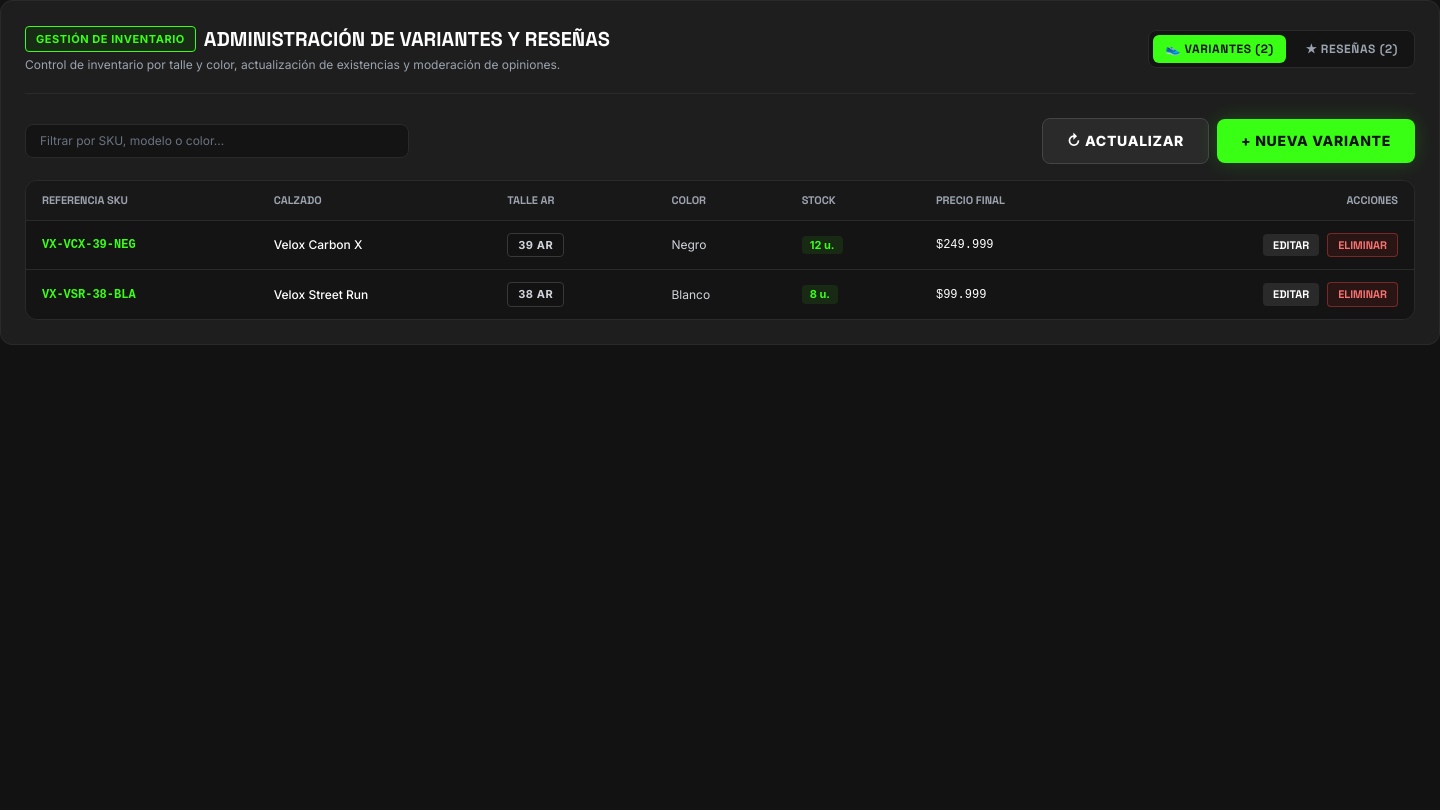
DashboardCrudManager - Gestión de Inventario y Reseñas › 4. Abre modal de confirmación y elimina una variante
Expected: the text "VX-VCX-39-NEG" is shown, [26,220,258,270]
Click the button "ELIMINAR" in the row of "VX-VCX-39-NEG".
click(1363, 245)  # box [1327,233,1398,257]
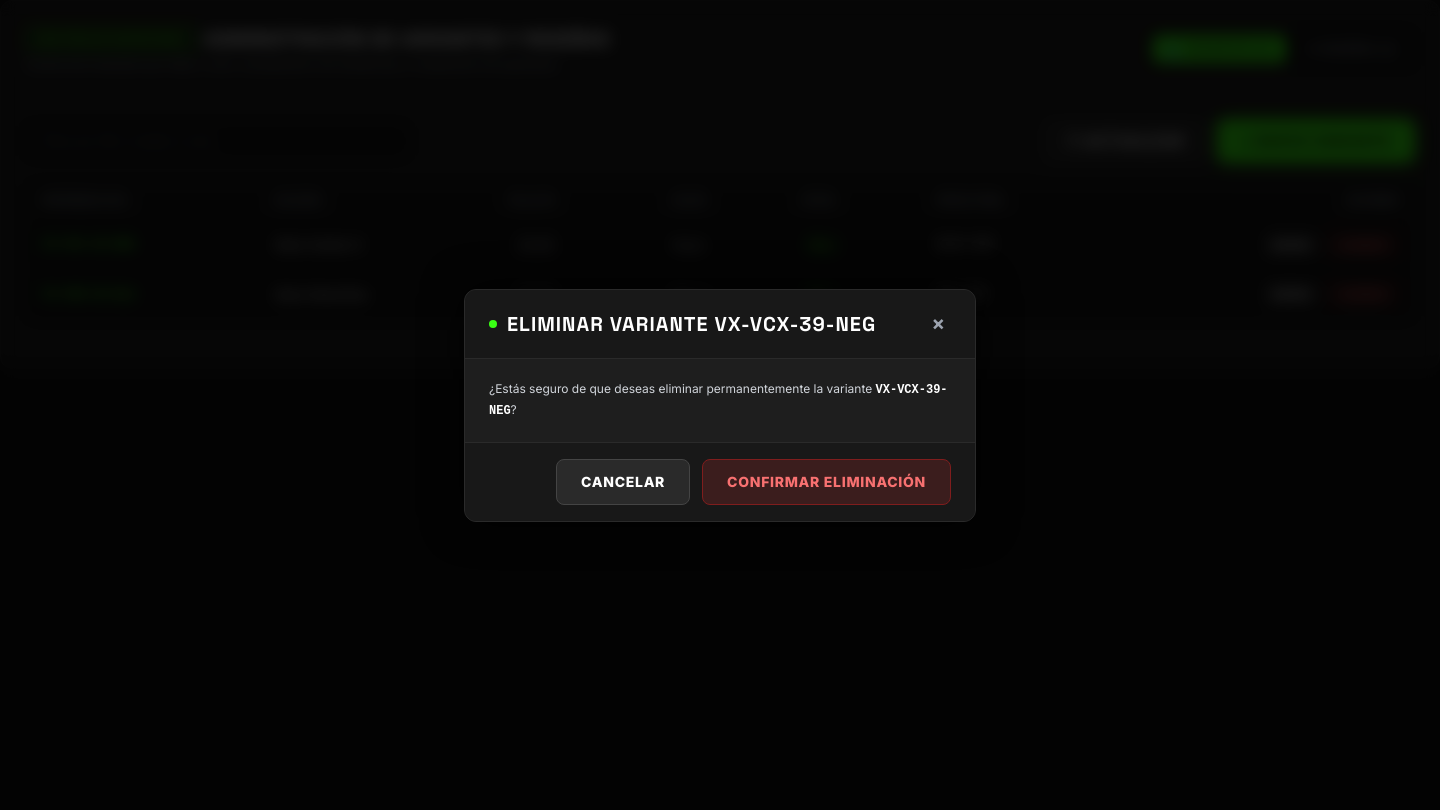
Result: the dialog is shown
Result: the heading "ELIMINAR VARIANTE VX-VCX-39-NEG" is shown at [507,310,876,338]
Click the button "CONFIRMAR ELIMINACIÓN".
click(827, 482)  # box [702,458,951,504]
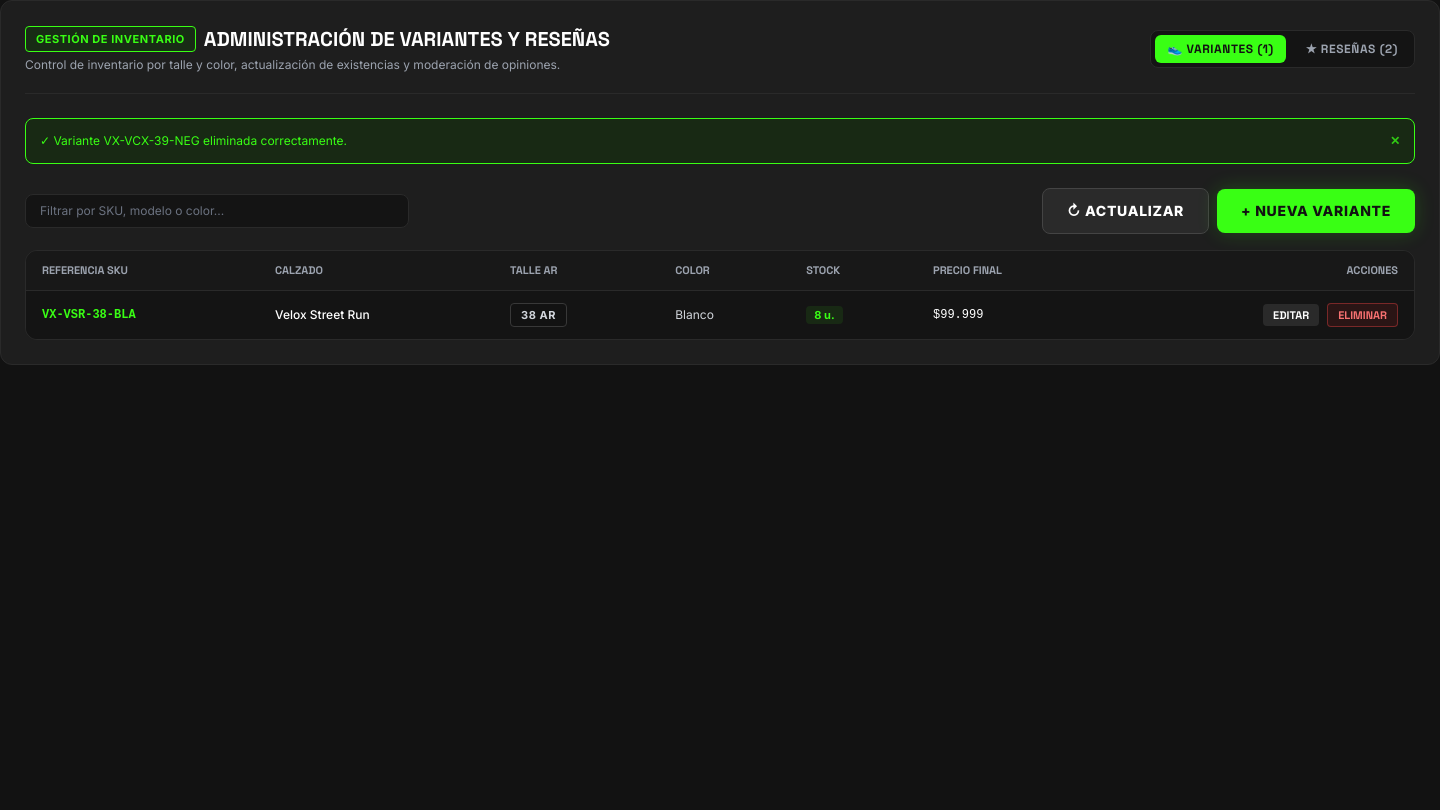
Result: the text "✓ Variante VX-VCX-39-NEG eliminada correctamente." is shown at [40,133,347,149]
